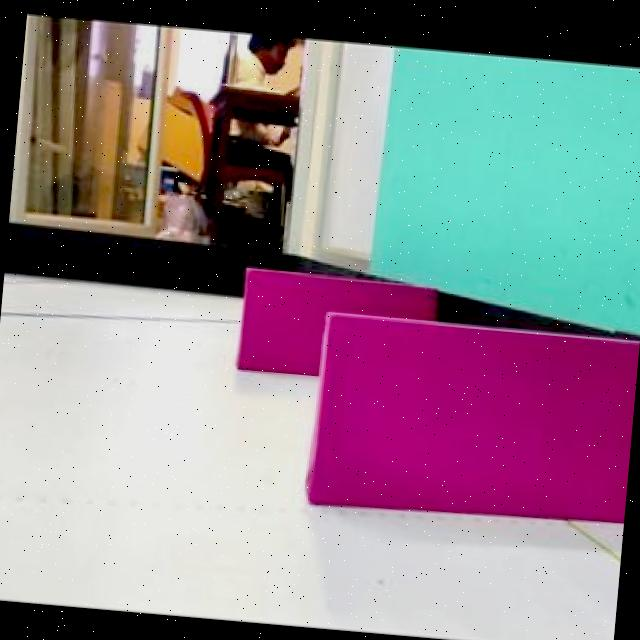xparking: (309, 318, 633, 518), (239, 266, 322, 374)
